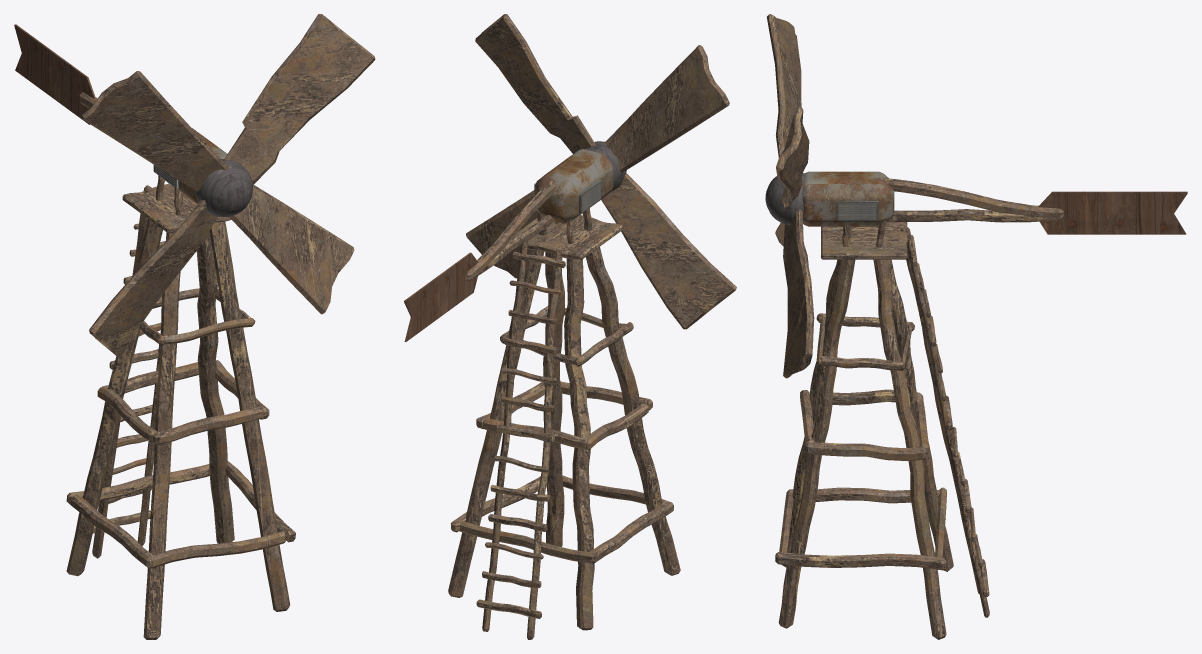
File: windmill.glb
3 views of the same model, side by side, from view 1: azimuth 30°, elevation 25°; view 2: azimuth 150°, elevation 25°; view 3: azimuth 270°, elevation 25° (orthographic). The views are drawn at different scales.
Parts seen in each view (by area): view 1: Windmill_Wood_rough_0, spinning; view 2: Windmill_Wood_rough_0, spinning; view 3: Windmill_Wood_rough_0, spinning.
Boxes of the visible parts, x1=… form: Windmill_Wood_rough_0: x1=14, y1=24, x2=295, y2=639; spinning: x1=81, y1=14, x2=375, y2=356; Windmill_Wood_rough_0: x1=404, y1=149, x2=680, y2=639; spinning: x1=466, y1=14, x2=736, y2=329; Windmill_Wood_rough_0: x1=775, y1=171, x2=1187, y2=639; spinning: x1=765, y1=14, x2=814, y2=378.
Bounding box in the file's own units: 3.95 × 7.77 × 5.42.
Materials: 5 (5 with a texture image).
